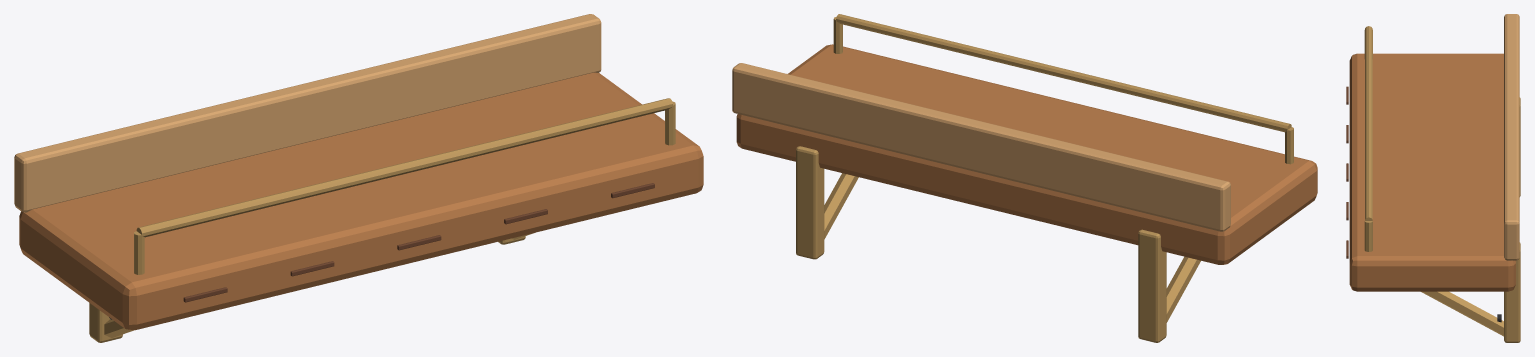
Rendered from 029_bracket_wall_shelf_v02.glb.
3 renders of one model, left to right at view 1: azimuth 30°, elevation 25°; view 2: azimuth 150°, elevation 25°; view 3: azimuth 270°, elevation 25°, orthographic. The views are drawn at different scales.
Visible parts, largest first — view 1: Floating shelf slab, Raised back lip, Front gallery rail, Wall bracket vertical; view 2: Floating shelf slab, Raised back lip, Front gallery rail, Wall bracket vertical, Wall bracket vertical.001, Triangular load brace, Triangular load brace.001; view 3: Floating shelf slab, Raised back lip, Front gallery rail, Triangular load brace.001, Wall bracket vertical.001, Gallery rail post.001, Wall bracket vertical.
Boxes of the visible parts, bbox=[...] form: Floating shelf slab: bbox=[19, 72, 703, 330]; Raised back lip: bbox=[14, 14, 601, 212]; Front gallery rail: bbox=[136, 98, 672, 237]; Wall bracket vertical: bbox=[89, 303, 122, 342]; Floating shelf slab: bbox=[736, 44, 1317, 264]; Raised back lip: bbox=[732, 63, 1230, 231]; Front gallery rail: bbox=[836, 14, 1291, 132]; Wall bracket vertical: bbox=[1138, 229, 1166, 342]; Wall bracket vertical.001: bbox=[796, 146, 824, 259]; Triangular load brace: bbox=[1166, 256, 1200, 322]; Triangular load brace.001: bbox=[824, 173, 858, 239]; Floating shelf slab: bbox=[1349, 53, 1515, 291]; Raised back lip: bbox=[1504, 14, 1519, 260]; Front gallery rail: bbox=[1365, 26, 1372, 220]; Triangular load brace.001: bbox=[1421, 291, 1503, 336]; Wall bracket vertical.001: bbox=[1504, 242, 1520, 342]; Gallery rail post.001: bbox=[1364, 221, 1372, 251]; Wall bracket vertical: bbox=[1519, 97, 1520, 196].
Bounding box in the file's own units: 0.95 × 0.3175 × 0.3355.
